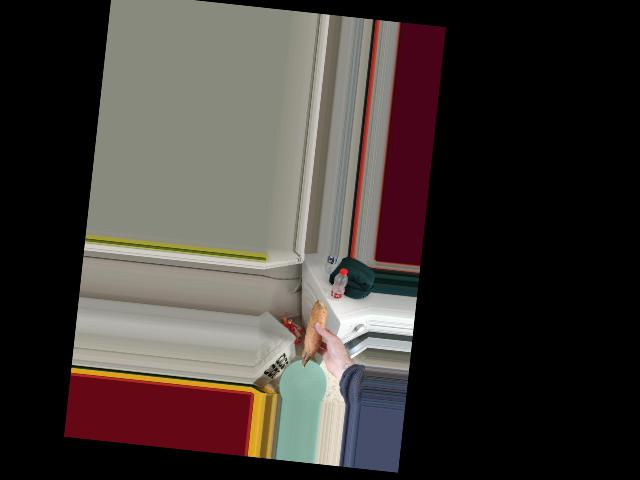sweet_potato: (299, 296, 325, 373)
